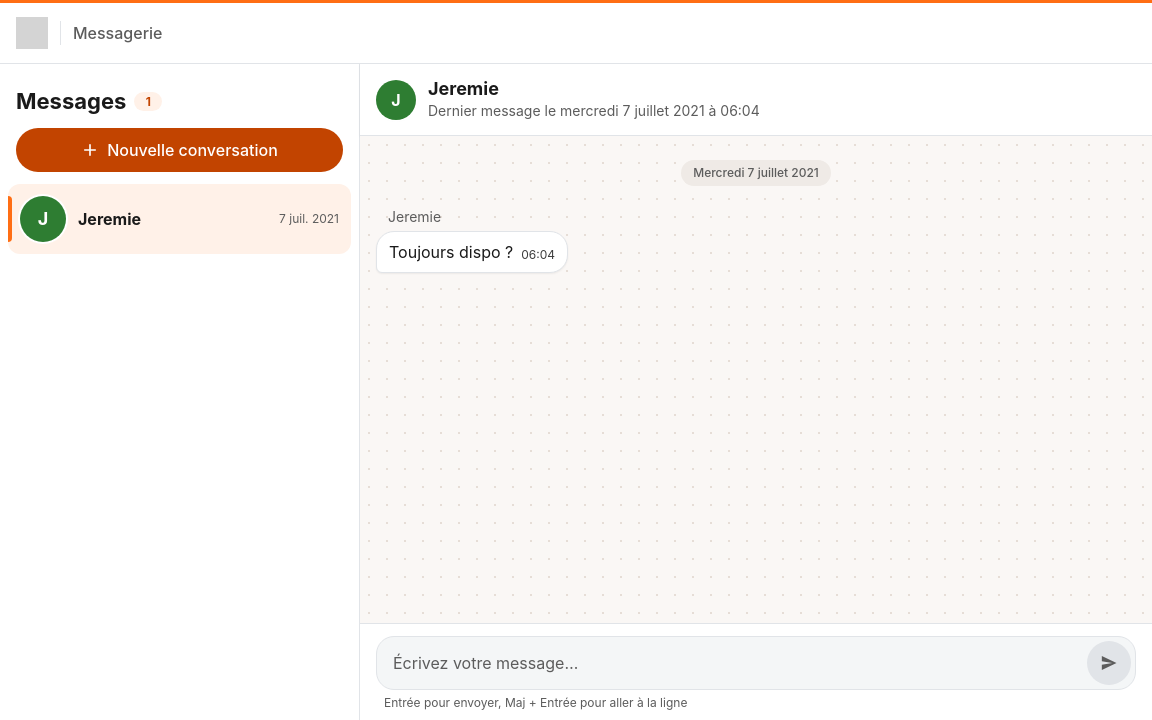
Test: sending a message › keeps a failed message visible and resends it with Réessayer
Expected: the text "Toujours dispo ?" is shown, [389,240,513,264]
Type "Je passe demain" into the text box labelled "votre message" at (736, 663), box [393,641,1079,685]
Then press Enter
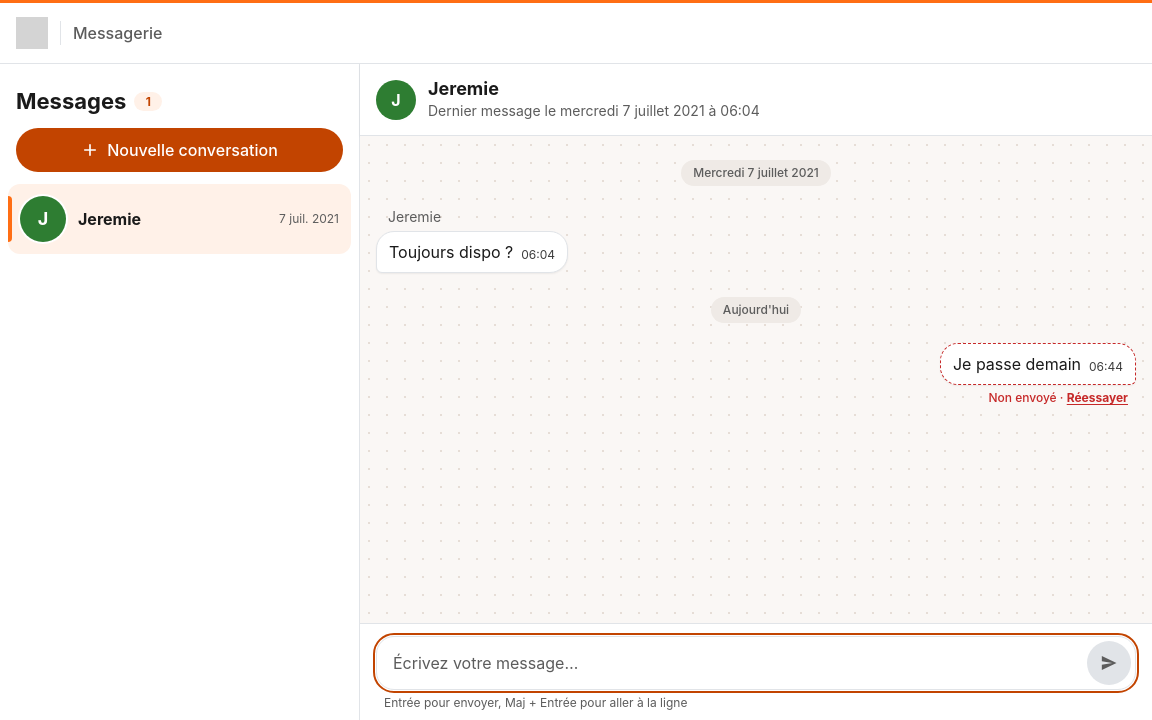
Result: the text "Non envoyé" is shown at [988,390,1057,405]
Result: the text "Je passe demain" is shown at [953,352,1081,376]
Click the button named "Réessayer l'envoi du message" at (1097, 398), box [1063,381,1132,415]
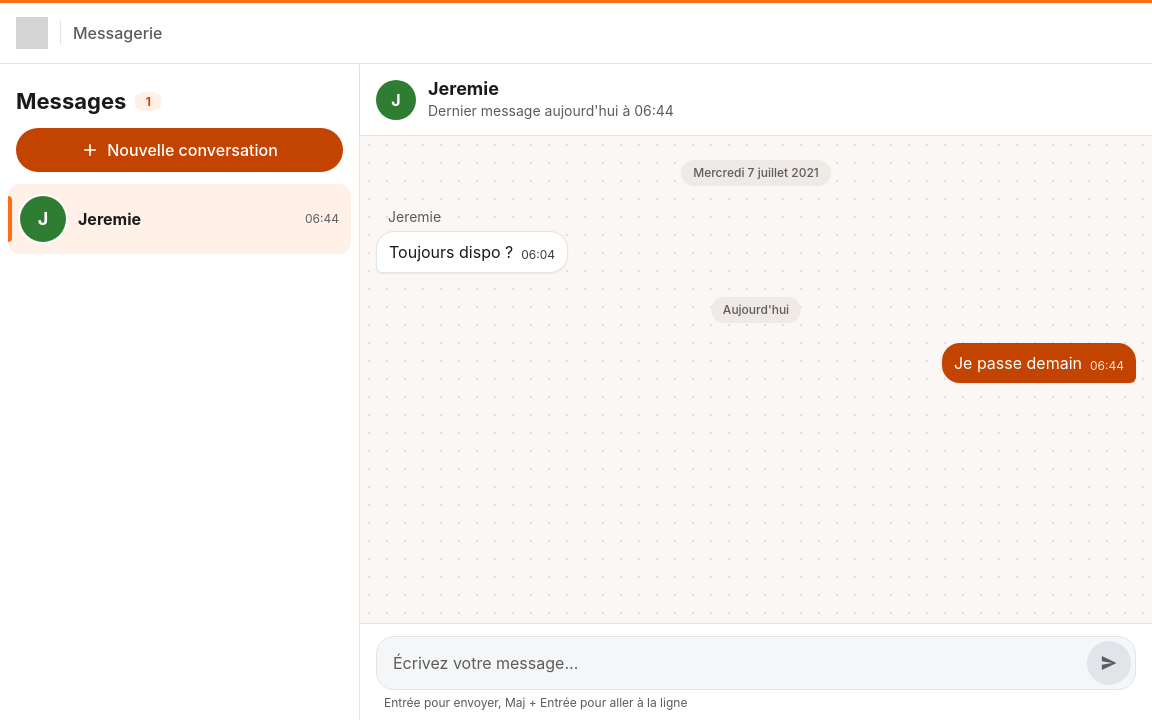
Result: the text "Je passe demain" is shown at [954,351,1082,375]
Result: the text "Non envoyé" is gone
